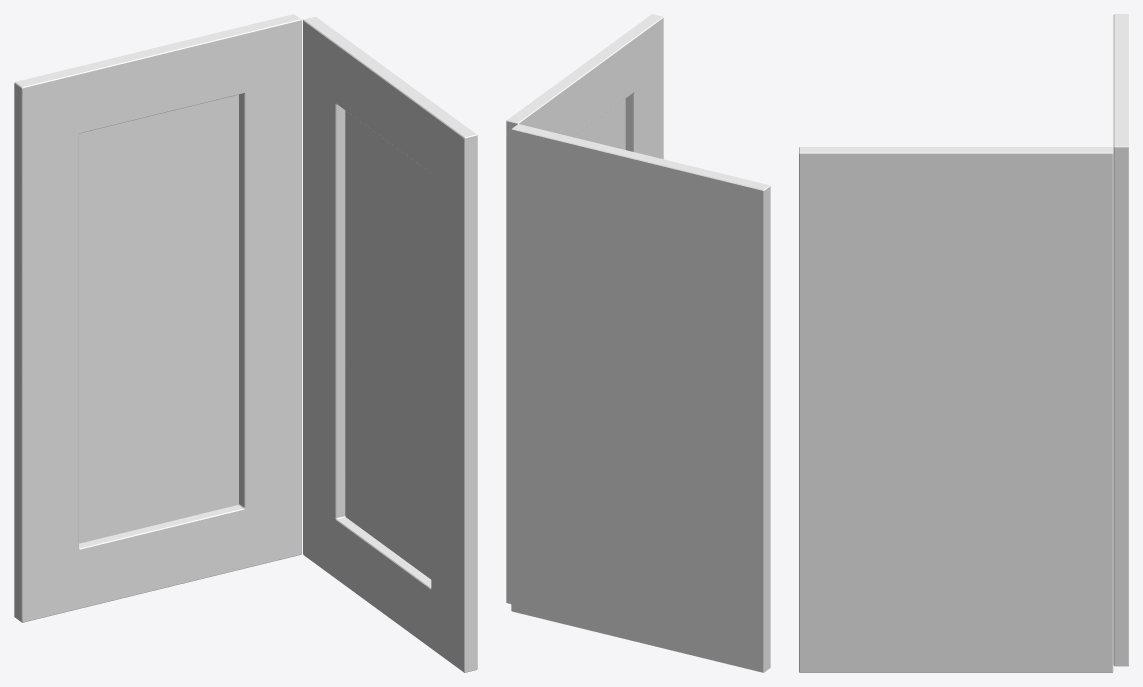
File: front_bottom_keretes_sarok_90_l.glb
3 renders of one model, left to right at view 1: azimuth 30°, elevation 25°; view 2: azimuth 150°, elevation 25°; view 3: azimuth 270°, elevation 25°, orthographic. The views are drawn at different scales.
Parts seen in each view (by area): view 1: front_bottom_keretes_sarok_90_L; view 2: front_bottom_keretes_sarok_90_L; view 3: front_bottom_keretes_sarok_90_L.
Part boxes in pixels (left/top/right/bottom): front_bottom_keretes_sarok_90_L: left=14, top=14, right=477, bottom=672; front_bottom_keretes_sarok_90_L: left=506, top=14, right=770, bottom=672; front_bottom_keretes_sarok_90_L: left=799, top=14, right=1128, bottom=672.
Size of the model in its own units: 0.4085 by 0.711 by 0.4087.
1 material, 1 textured.
